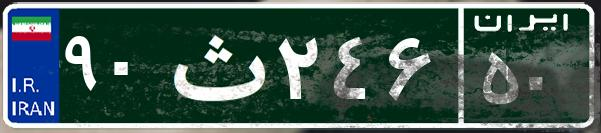0: (110, 28, 158, 105), (525, 38, 570, 115)
2: (273, 28, 330, 110)
4: (330, 28, 385, 110)
5: (475, 38, 525, 113)
6: (385, 28, 445, 110)
9: (57, 26, 110, 107)
ث: (158, 15, 273, 115)
